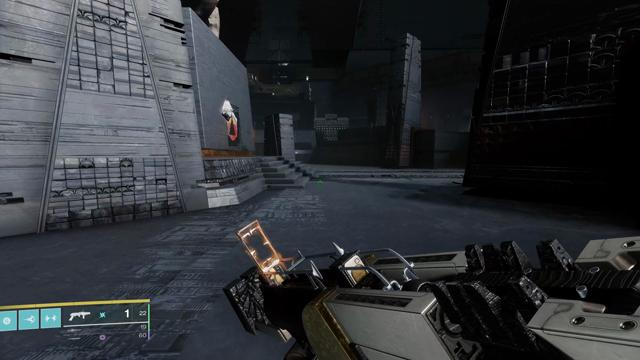pyramid: (228, 113, 238, 141)
